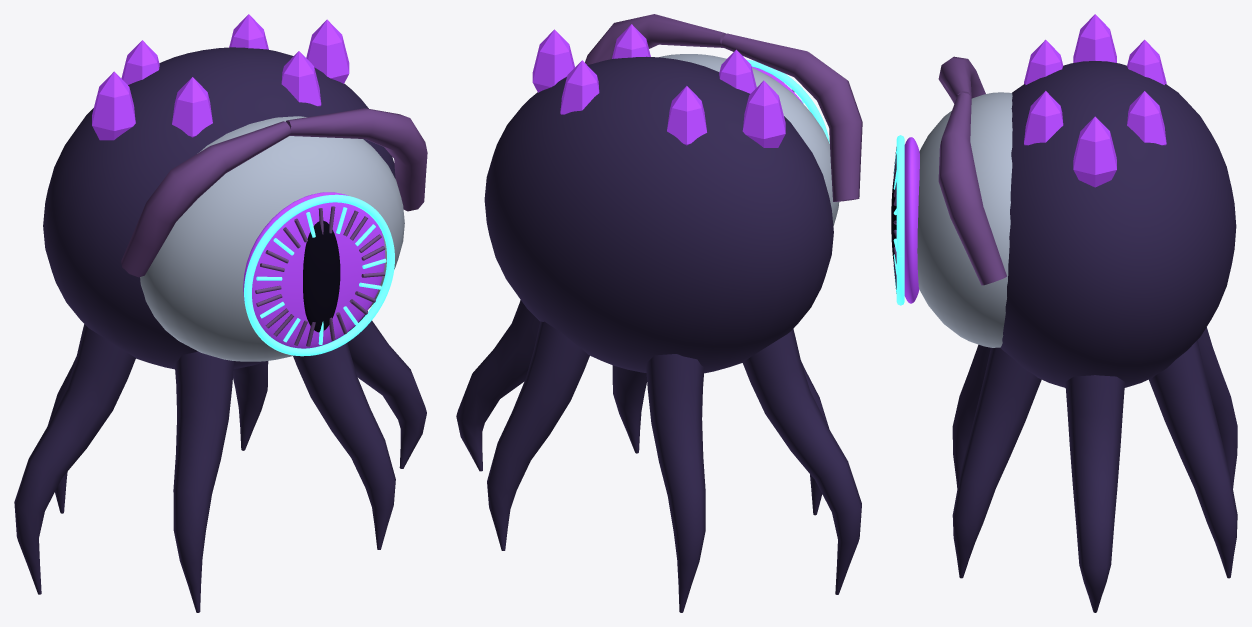
The model's file is m_olhoerrante.glb.
The picture shows the model from 3 angles, left to right: view 1: azimuth 30°, elevation 25°; view 2: azimuth 150°, elevation 25°; view 3: azimuth 270°, elevation 25°; orthographic projection.
Visible parts, largest first — view 1: Casca principal, Globo ocular, Tentaculo_03, Tentaculo_04, Iris roxa, Tentaculo_05, Sobrancelha quitinosa, Sobrancelha quitinosa.001, Tentaculo_00, Limbo da iris, Pupila vertical, Crista.003 (+7 smaller); view 2: Casca principal, Tentaculo_03, Tentaculo_02, Tentaculo_01, Sobrancelha quitinosa, Tentaculo_00, Globo ocular, Sobrancelha quitinosa.001, Crista.003, Tentaculo_05, Crista, Crista.002 (+5 smaller); view 3: Casca principal, Globo ocular, Tentaculo_00, Tentaculo_01, Tentaculo_05, Sobrancelha quitinosa.001, Iris roxa, Tentaculo_02, Crista, Tentaculo_04, Limbo da iris, Crista.003 (+5 smaller).
Part boxes in pixels (left/top/right/bottom): Casca principal: left=43, top=47, right=395, bottom=369; Globo ocular: left=140, top=116, right=404, bottom=361; Tentaculo_03: left=14, top=324, right=135, bottom=594; Tentaculo_04: left=173, top=351, right=234, bottom=612; Iris roxa: left=243, top=192, right=385, bottom=348; Tentaculo_05: left=293, top=342, right=395, bottom=549; Sobrancelha quitinosa: left=121, top=121, right=291, bottom=277; Sobrancelha quitinosa.001: left=286, top=108, right=427, bottom=211; Tentaculo_00: left=347, top=311, right=426, bottom=468; Limbo da iris: left=244, top=194, right=394, bottom=356; Pupila vertical: left=303, top=220, right=340, bottom=332; Crista.003: left=92, top=71, right=135, bottom=140; Casca principal: left=484, top=56, right=833, bottom=373; Tentaculo_03: left=742, top=329, right=861, bottom=594; Tentaculo_02: left=645, top=354, right=705, bottom=612; Tentaculo_01: left=487, top=321, right=589, bottom=550; Sobrancelha quitinosa: left=721, top=33, right=862, bottom=201; Tentaculo_00: left=456, top=300, right=539, bottom=471; Globo ocular: left=659, top=54, right=839, bottom=226; Sobrancelha quitinosa.001: left=585, top=14, right=726, bottom=65; Crista.003: left=742, top=80, right=785, bottom=147; Tentaculo_05: left=612, top=365, right=646, bottom=453; Crista: left=532, top=29, right=574, bottom=92; Crista.002: left=667, top=86, right=706, bottom=145; Casca principal: left=1000, top=61, right=1236, bottom=387; Globo ocular: left=917, top=92, right=1012, bottom=347; Tentaculo_00: left=1065, top=375, right=1124, bottom=612; Tentaculo_01: left=1149, top=340, right=1237, bottom=578; Tentaculo_05: left=952, top=347, right=1041, bottom=578; Sobrancelha quitinosa.001: left=938, top=92, right=1006, bottom=285; Iris roxa: left=904, top=137, right=919, bottom=303; Tentaculo_02: left=1197, top=327, right=1237, bottom=487; Crista: left=1073, top=116, right=1116, bottom=187; Tentaculo_04: left=952, top=344, right=990, bottom=488; Limbo da iris: left=896, top=135, right=904, bottom=305; Crista.003: left=1073, top=14, right=1116, bottom=62.
Bounding box in the file's own units: 1.38 × 1.63 × 1.03.
